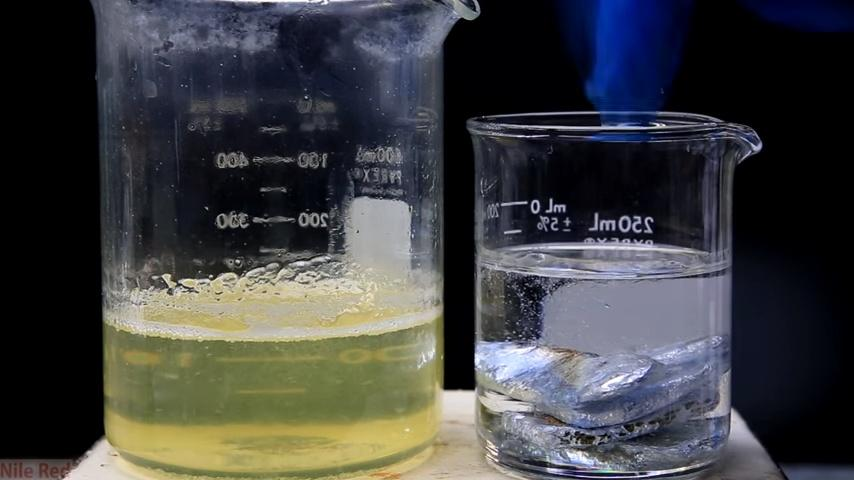Beaker: (83, 10, 448, 465), (457, 105, 759, 468)
